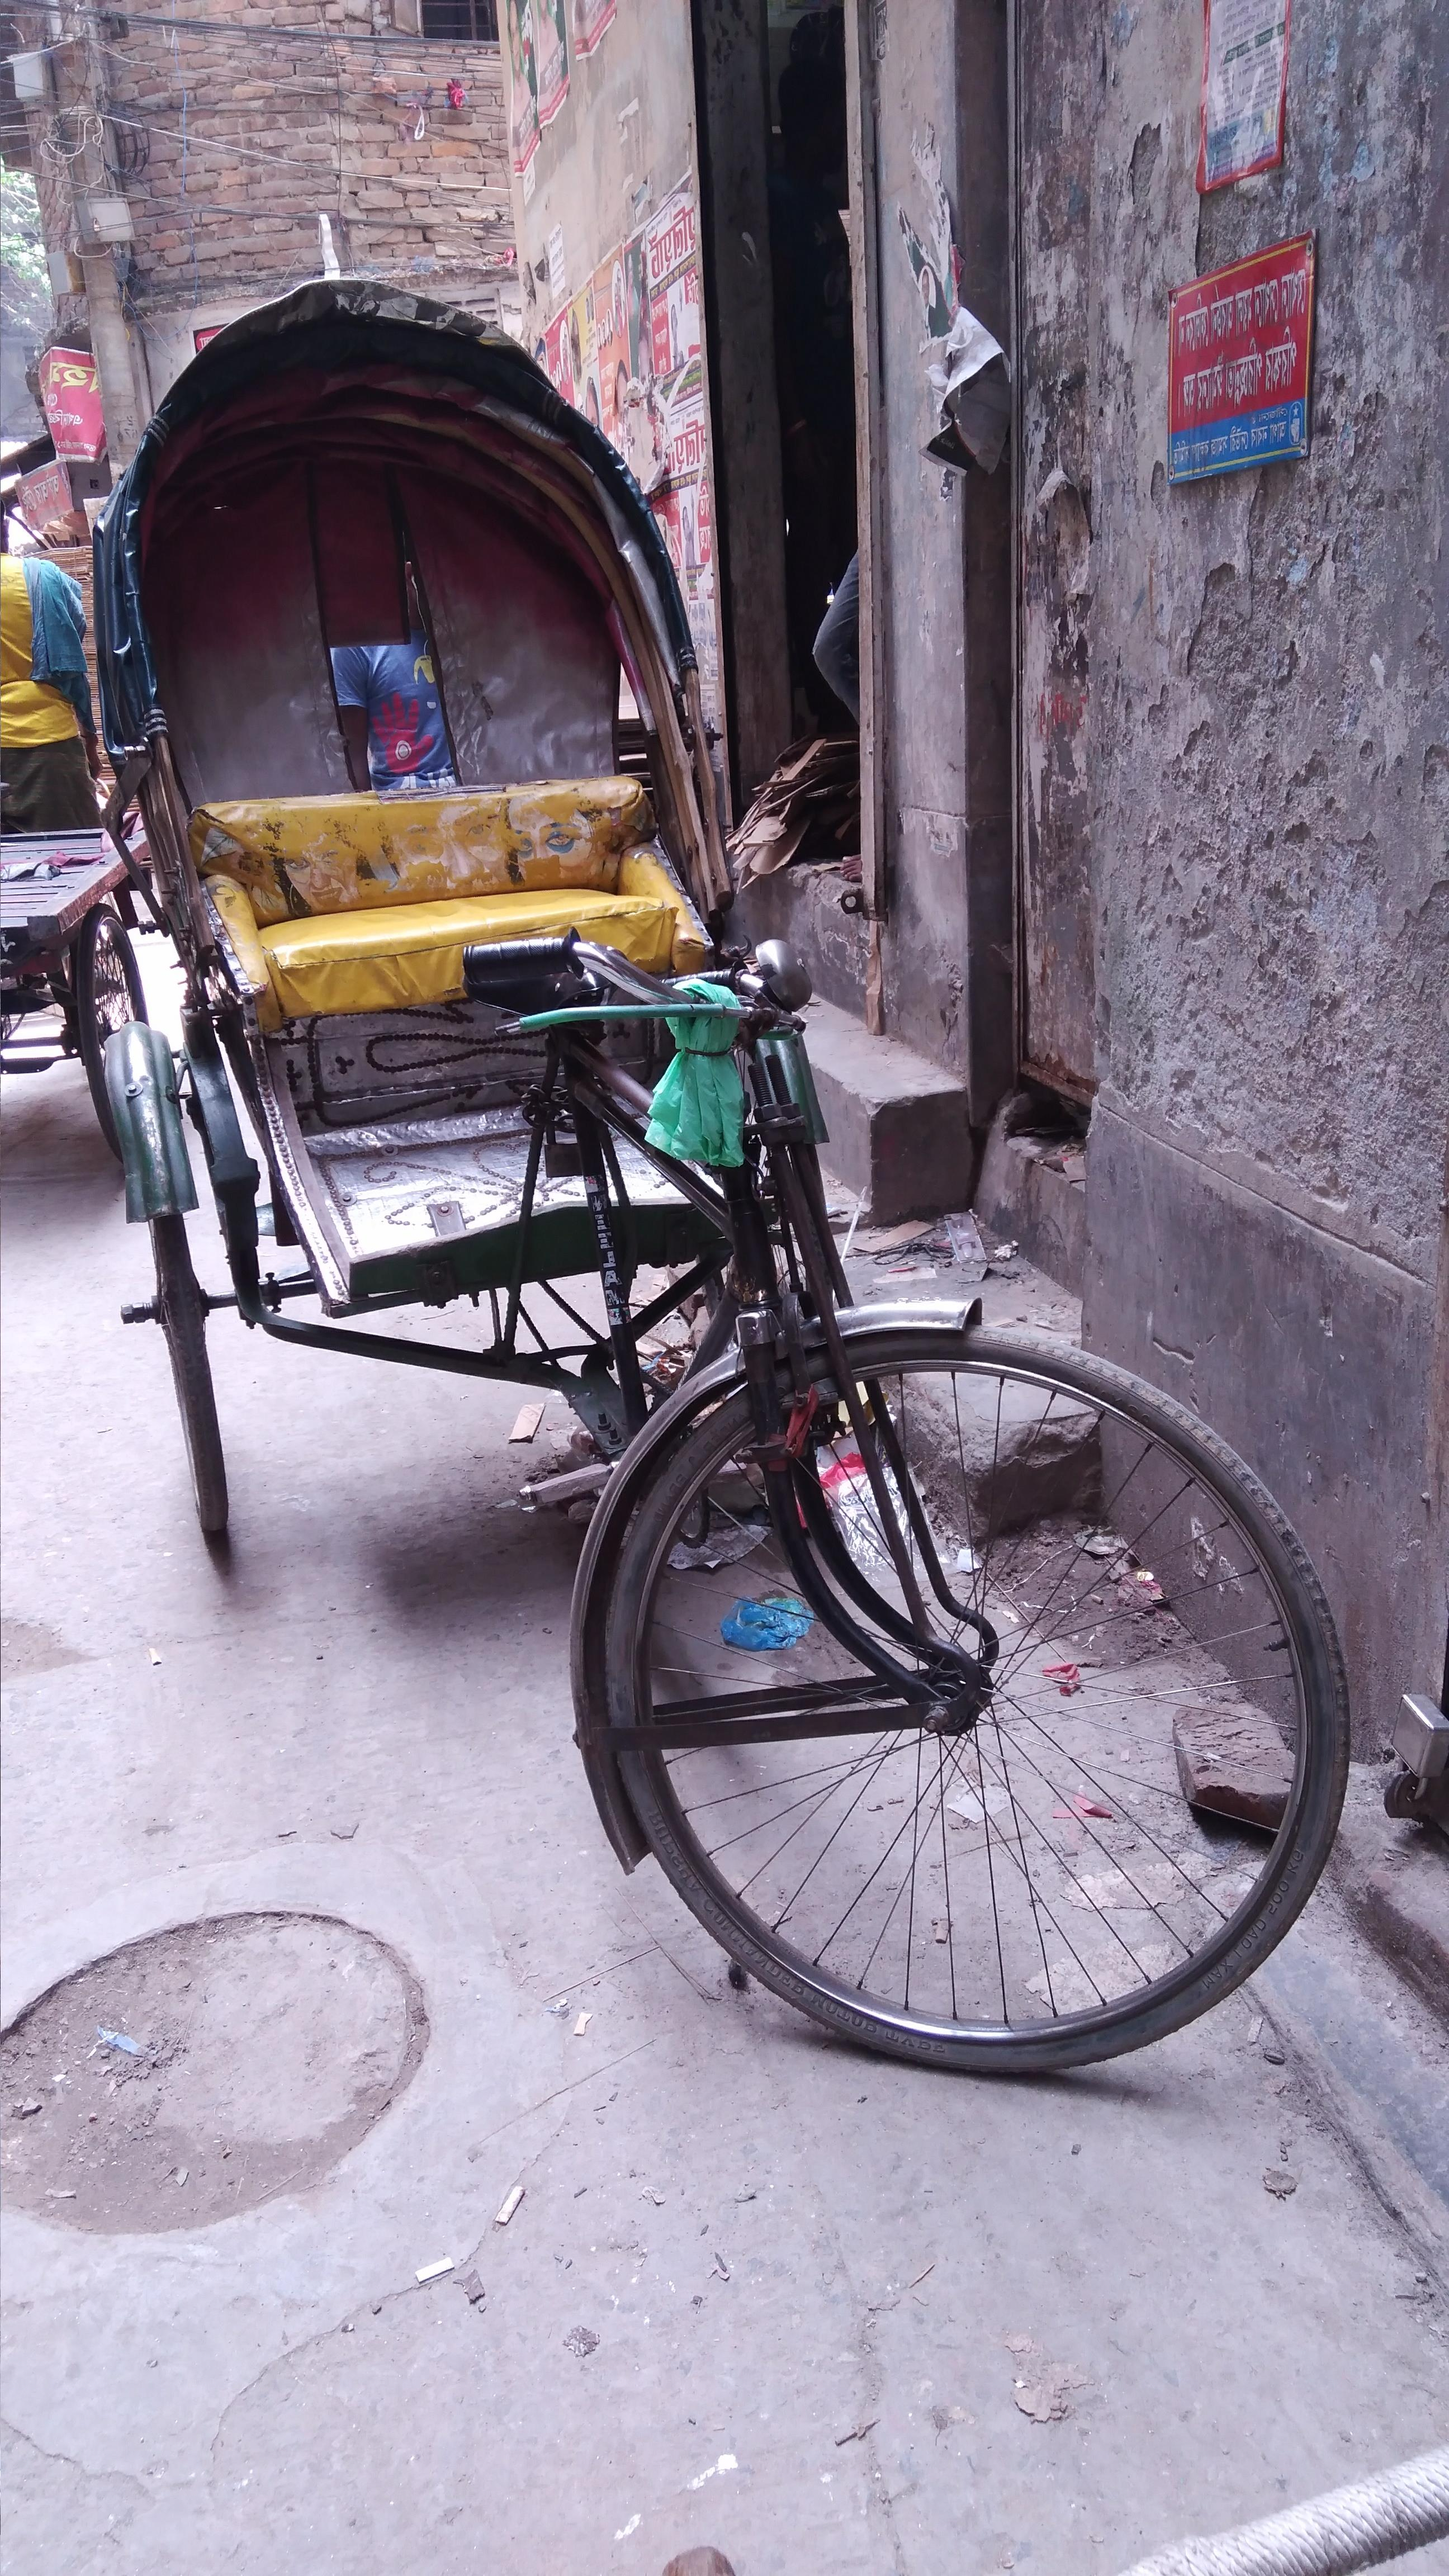Rickshaw: (58, 271, 1350, 2045)
